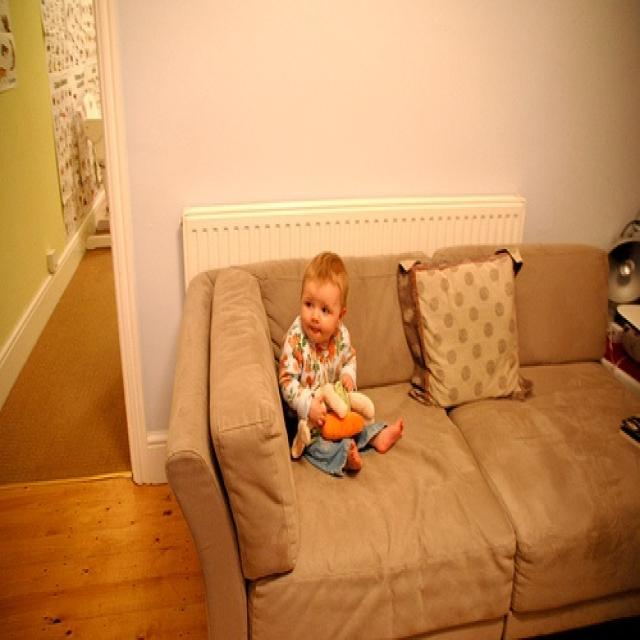sofa: (170, 243, 639, 634)
